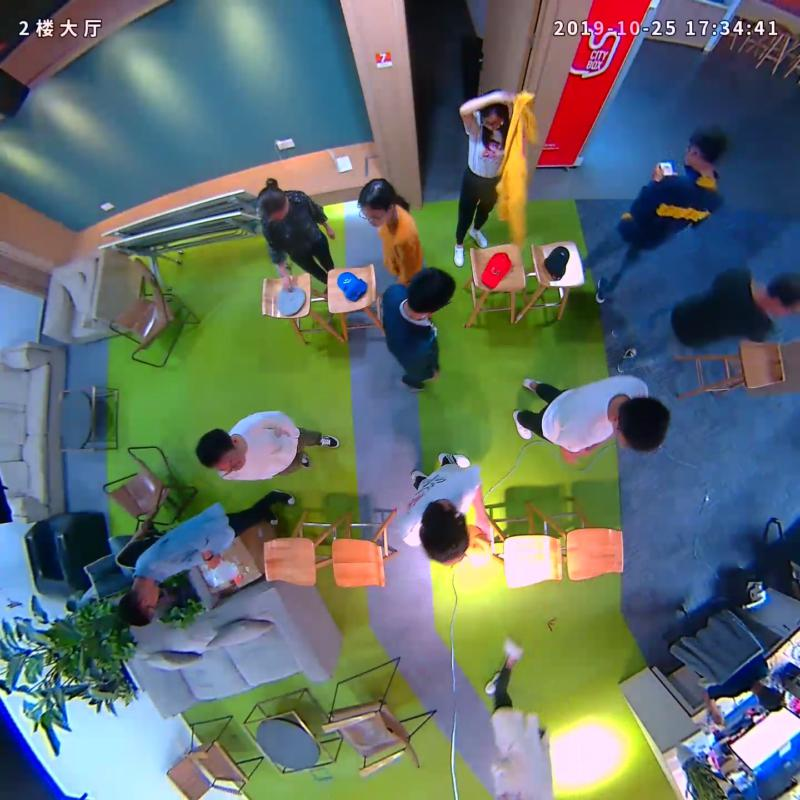head: (416, 501, 476, 568), (610, 390, 672, 452), (403, 262, 459, 319), (351, 175, 404, 233), (674, 122, 730, 176), (192, 426, 248, 475), (471, 83, 515, 139), (113, 580, 160, 631), (250, 174, 293, 222), (763, 267, 800, 316)
